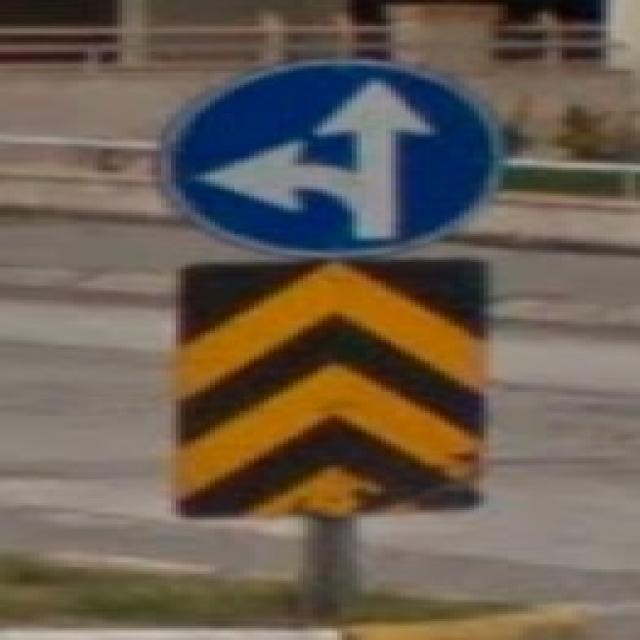Straight or Left: (165, 61, 502, 257)
